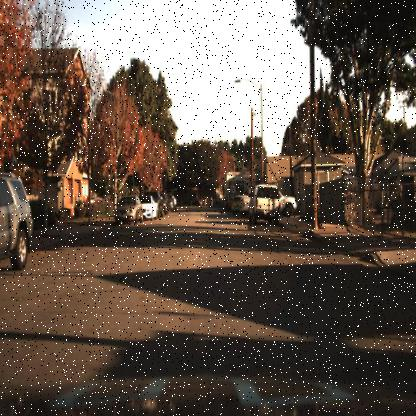car: (1, 172, 35, 270), (247, 180, 284, 226), (113, 191, 144, 227), (224, 170, 247, 213), (138, 194, 160, 221), (142, 192, 159, 226), (227, 190, 241, 216), (280, 196, 296, 218)
